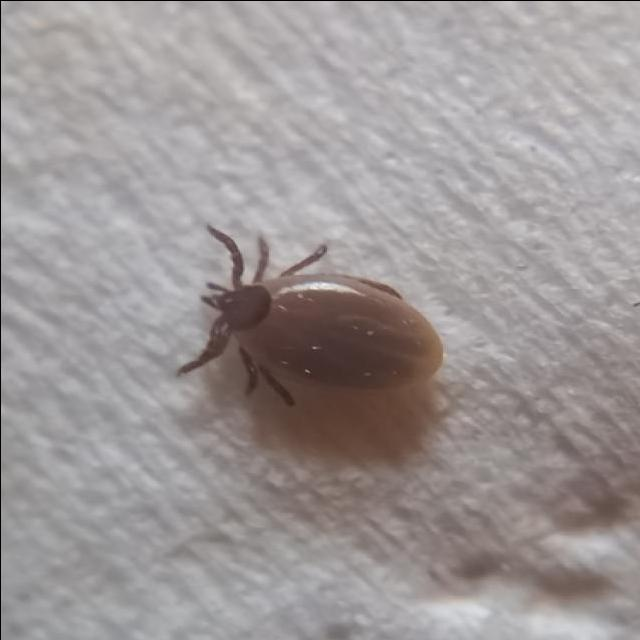Ixodes Ricinus-F-Fed: (176, 225, 442, 407)
